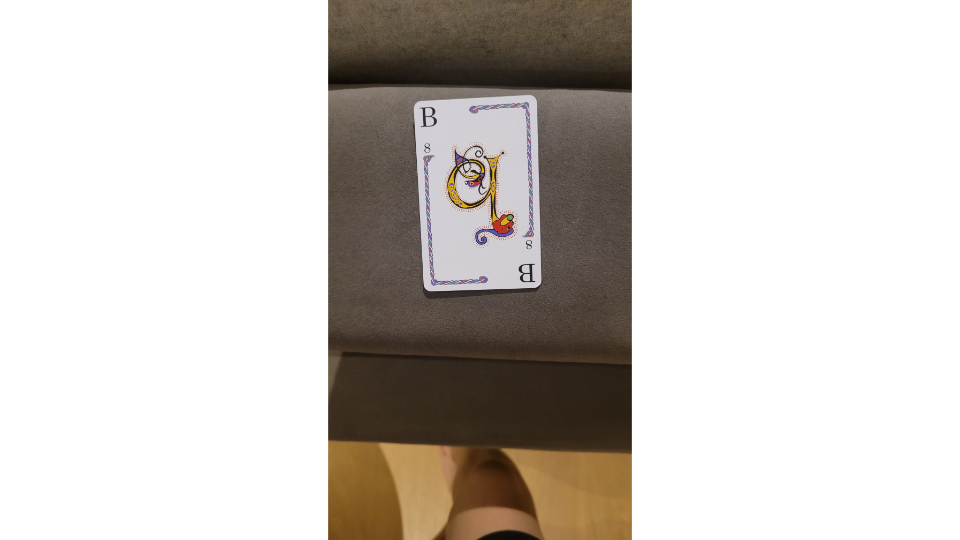B: (410, 93, 546, 294)
